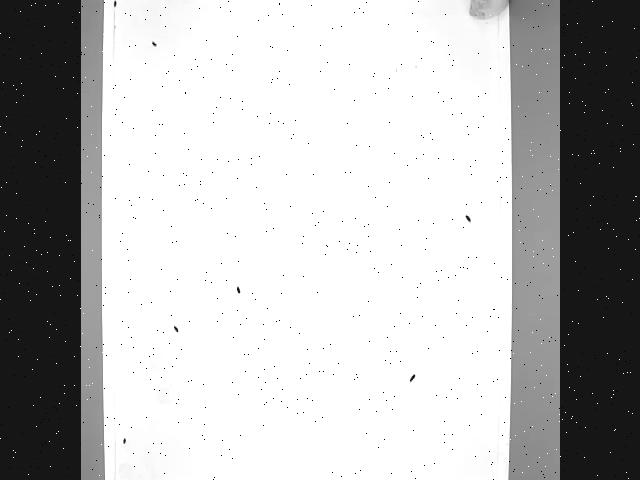Tikus: (444, 0, 510, 29)
